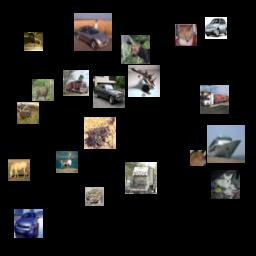airplane: (128, 65, 160, 97)
automobile: (74, 13, 112, 51), (93, 76, 125, 108), (14, 209, 43, 238), (205, 17, 227, 39)
cat: (190, 150, 206, 166)
deer: (121, 35, 150, 64), (32, 79, 54, 101), (17, 102, 39, 124), (56, 151, 78, 173), (24, 32, 43, 51)
dog: (211, 170, 240, 199), (175, 24, 197, 46)
frog: (84, 117, 116, 149), (85, 187, 104, 206)
ship: (207, 125, 245, 163)
truck: (125, 162, 157, 194), (200, 85, 229, 114), (63, 70, 89, 96)
